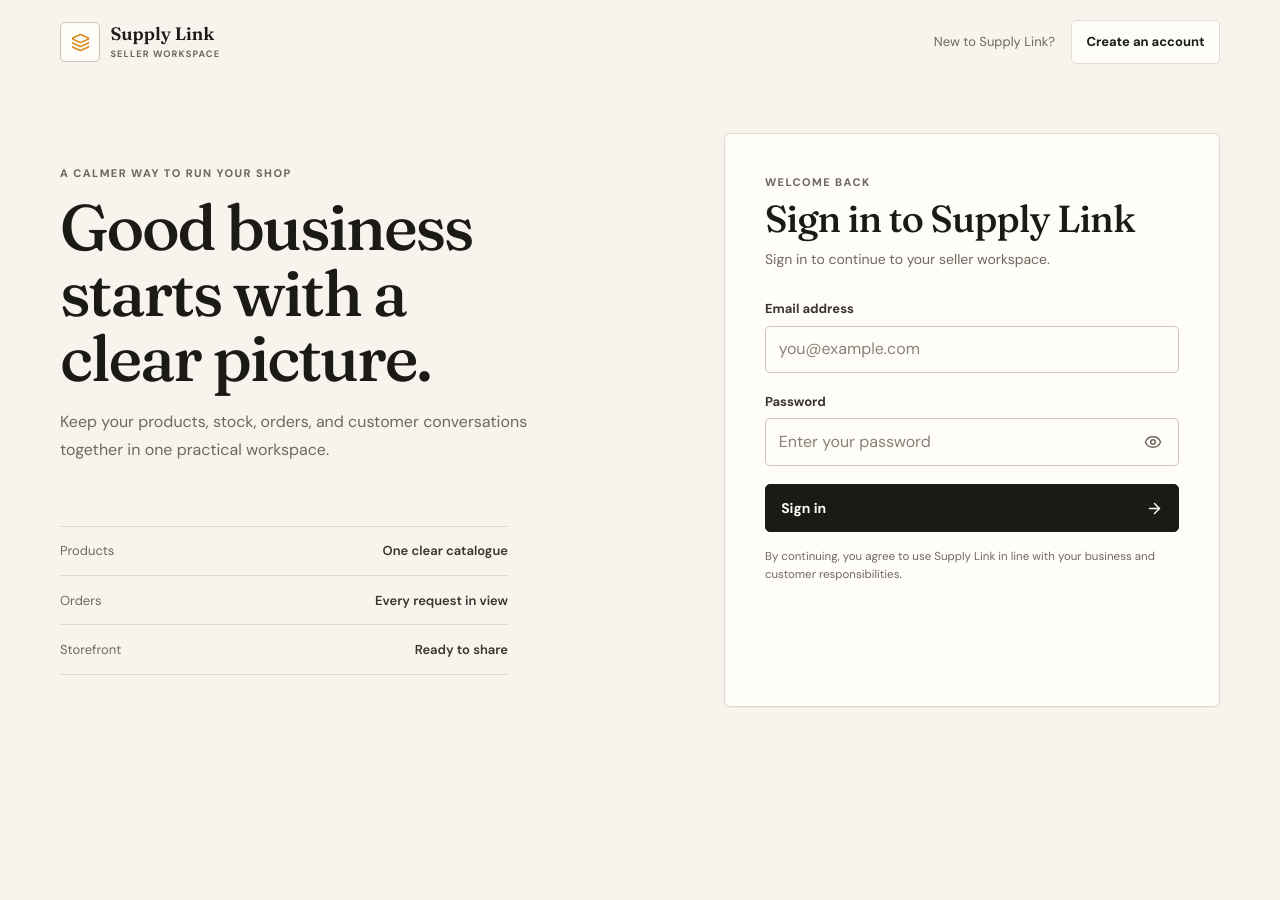
it: AuthPage - login › shows error for invalid credentials
Type "bad@example.com" into the field labelled "Email address" at (972, 350), box x1=765 y1=326 x2=1179 y2=373
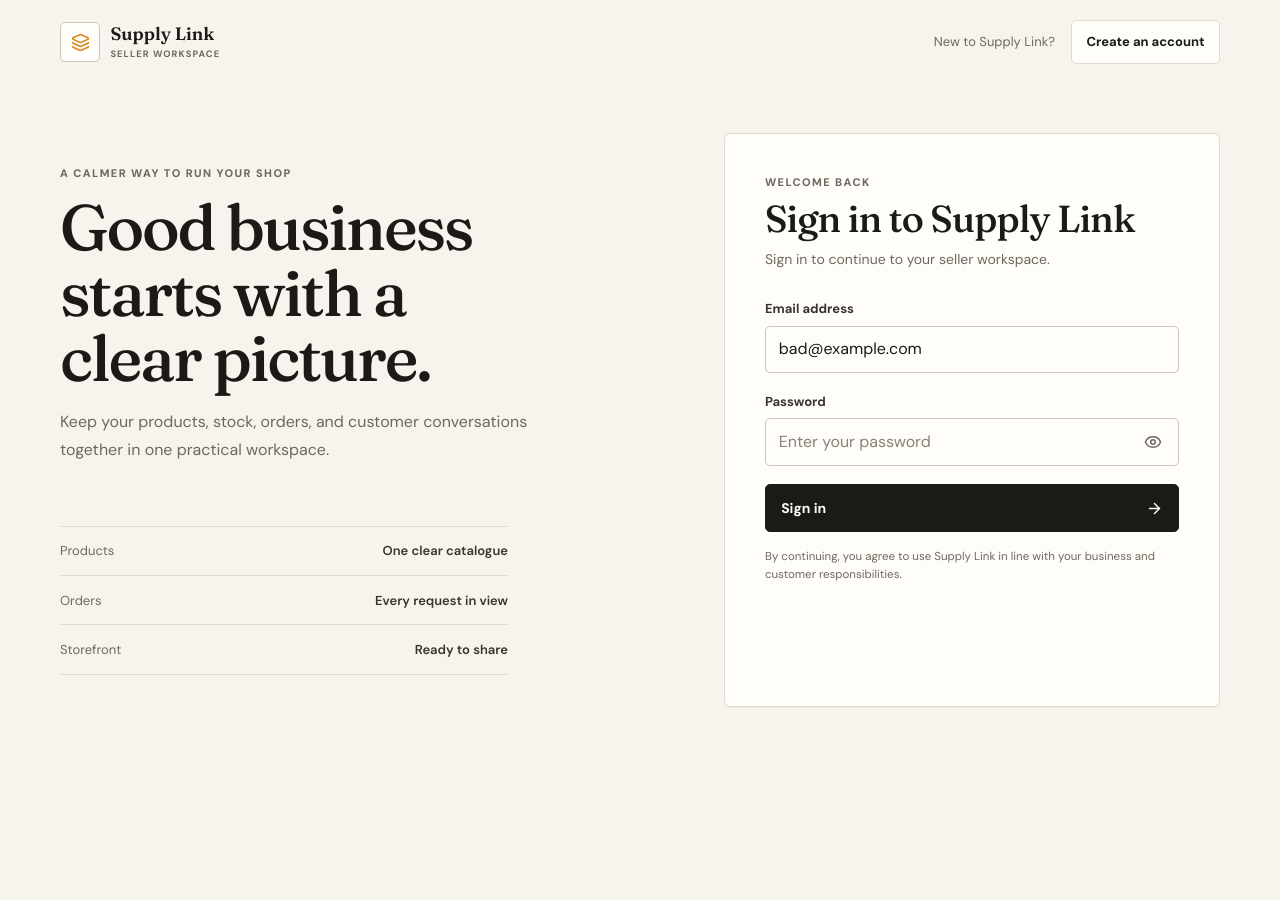
Type "wrong" into the password field labelled "Password" at (972, 442), box x1=765 y1=418 x2=1179 y2=466
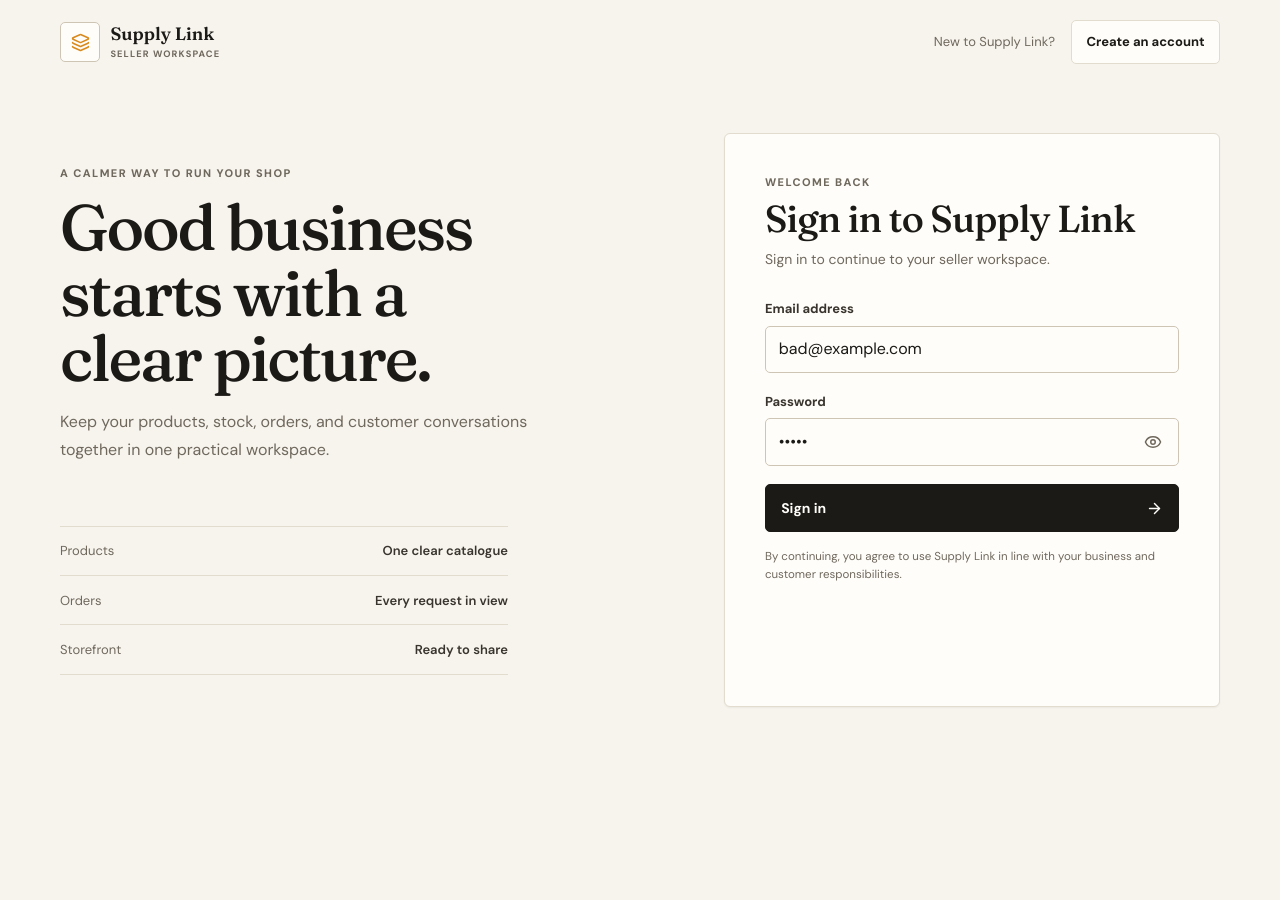
Click the button "Sign in" at (804, 508), box x1=765 y1=484 x2=1179 y2=532
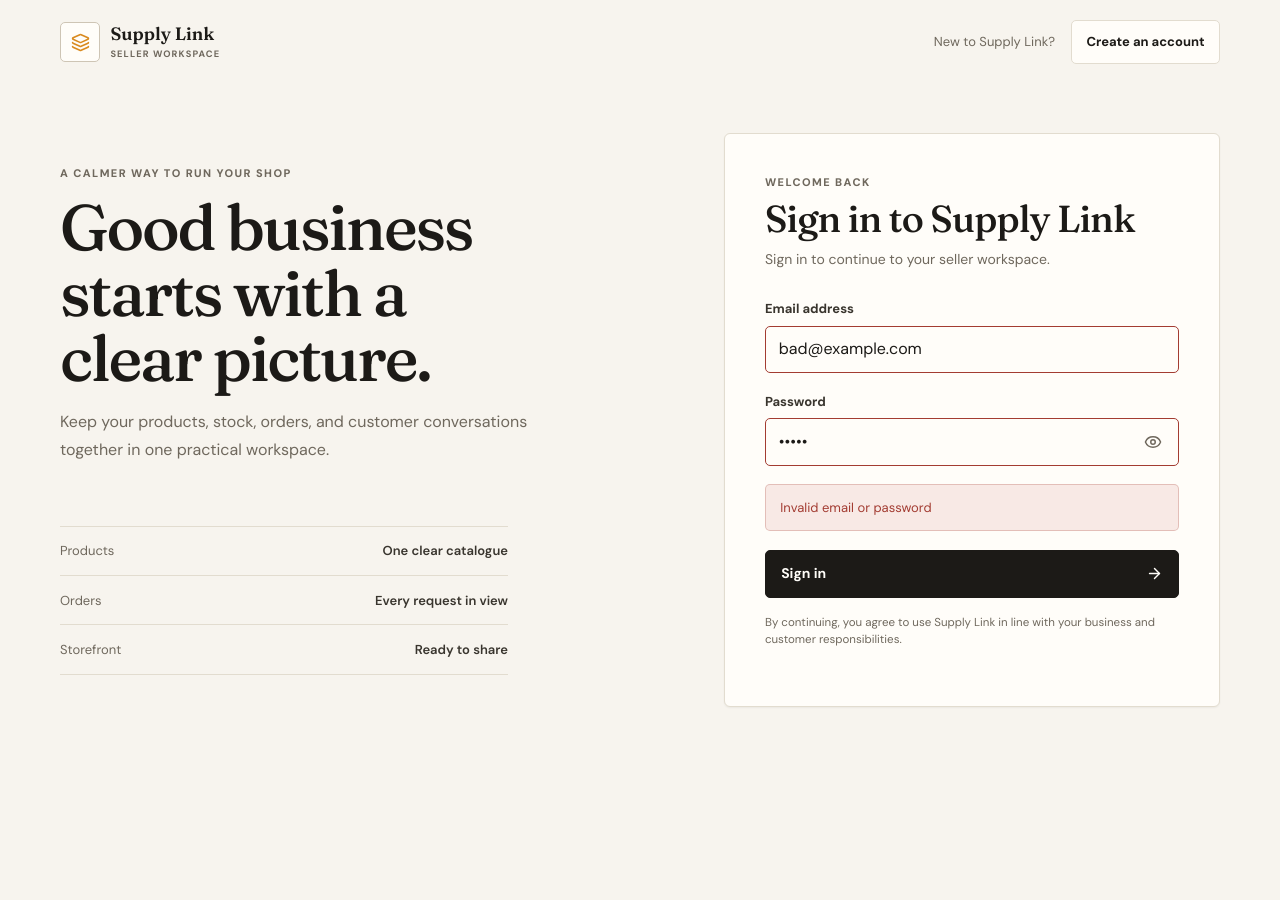
Result: the text "Invalid email or password" is shown at x1=780 y1=499 x2=932 y2=516
